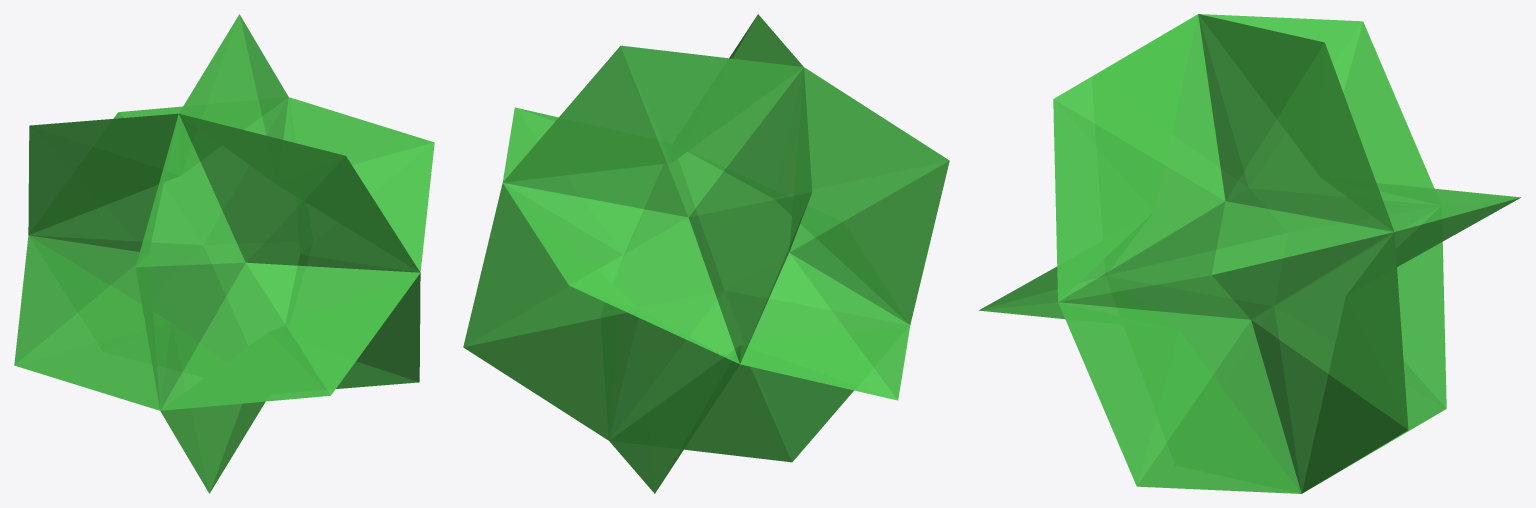
File: Mobius48a.obj
3 views of the same model, side by side, from view 1: azimuth 30°, elevation 25°; view 2: azimuth 150°, elevation 25°; view 3: azimuth 270°, elevation 25° (orthographic). The views are drawn at different scales.
Size of the model in its own units: 2.55 by 2.58 by 2.66.
